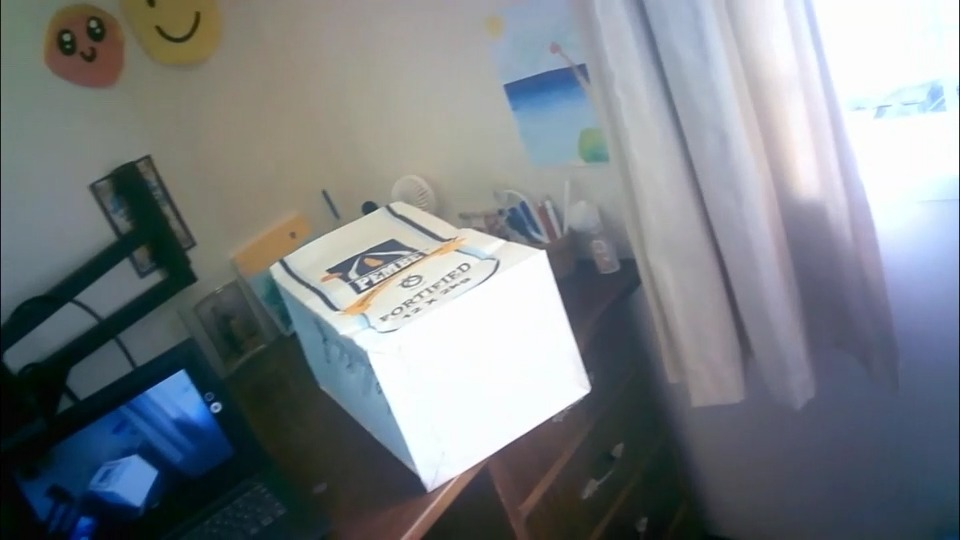wheat_flour_blue_label: (272, 205, 592, 490)
